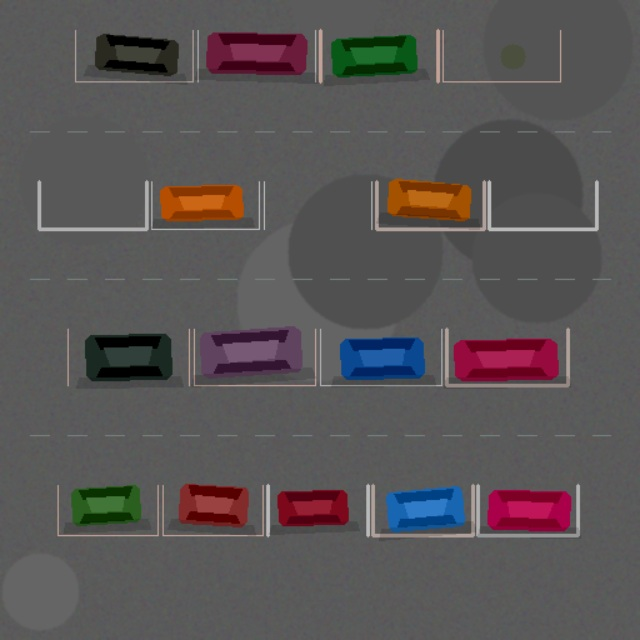space-empty: (442, 30, 560, 81), (39, 181, 146, 229), (264, 181, 371, 229), (489, 181, 596, 229)
space-occupied: (67, 329, 189, 385), (194, 329, 315, 385), (320, 329, 441, 385), (446, 329, 567, 385), (320, 30, 438, 81), (75, 30, 192, 81), (198, 30, 315, 81), (151, 181, 259, 229), (376, 181, 484, 229), (58, 485, 158, 535), (162, 485, 262, 535), (268, 485, 368, 535), (372, 485, 472, 535), (478, 485, 578, 535)
